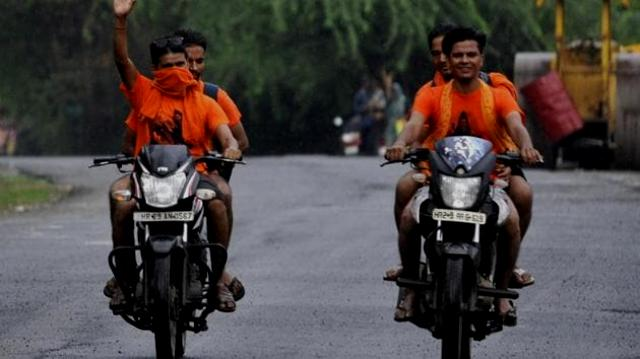licensePlate: (435, 209, 489, 228), (134, 212, 196, 222)
motorcycle: (381, 18, 542, 359), (91, 24, 244, 359)
withoutHelmet: (147, 35, 193, 88), (447, 30, 489, 84), (426, 23, 454, 76), (183, 29, 208, 79)
